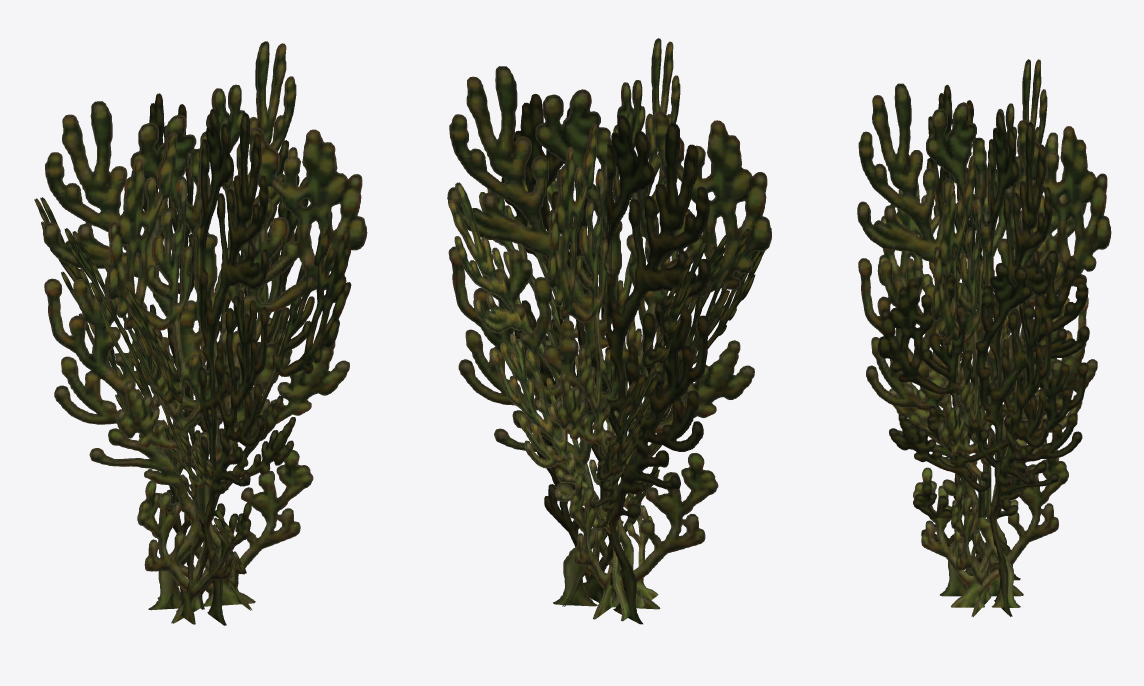
File: elwynnseaweed01.glb
3 renders of one model, left to right at view 1: azimuth 30°, elevation 25°; view 2: azimuth 150°, elevation 25°; view 3: azimuth 270°, elevation 25°, orthographic. The views are drawn at different scales.
Bounding box in the file's own units: 2.8 × 4.62 × 2.39.
1 material, 1 textured.
